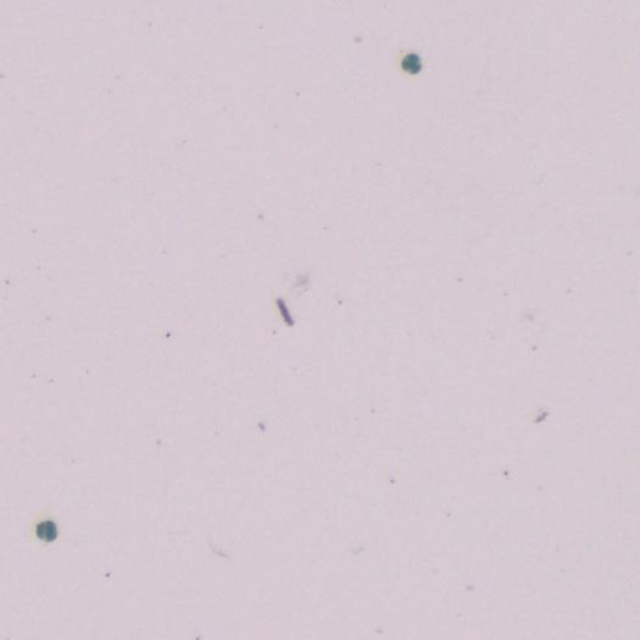non_viable: (401, 52, 421, 74), (37, 519, 56, 541)
